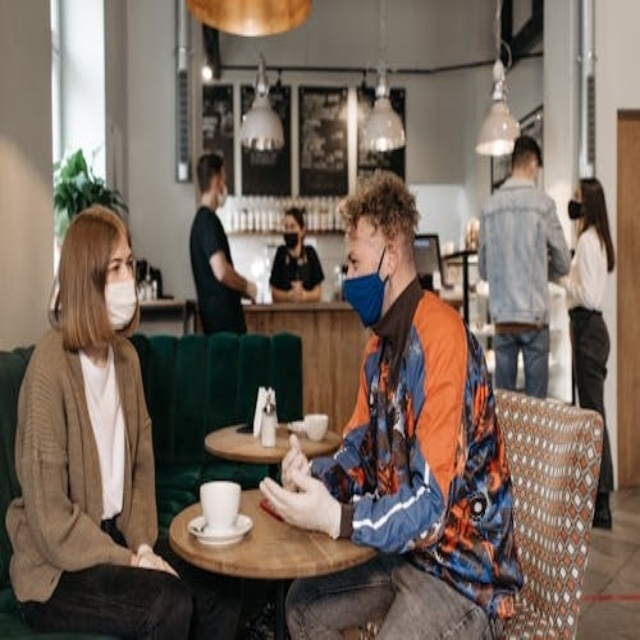Guantes: (261, 431, 353, 550)
Mascara: (342, 247, 389, 327), (104, 277, 138, 330), (215, 181, 228, 208), (284, 232, 300, 250), (568, 200, 583, 219)
Sin_gafas: (95, 245, 136, 276), (340, 238, 374, 272)
